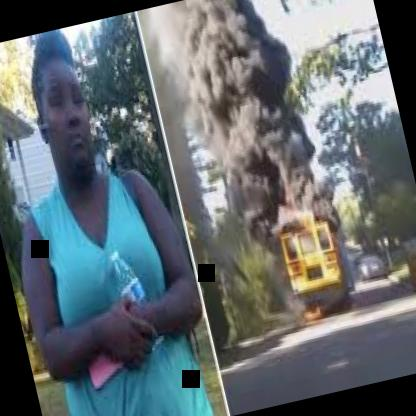fire: (214, 52, 348, 324)
